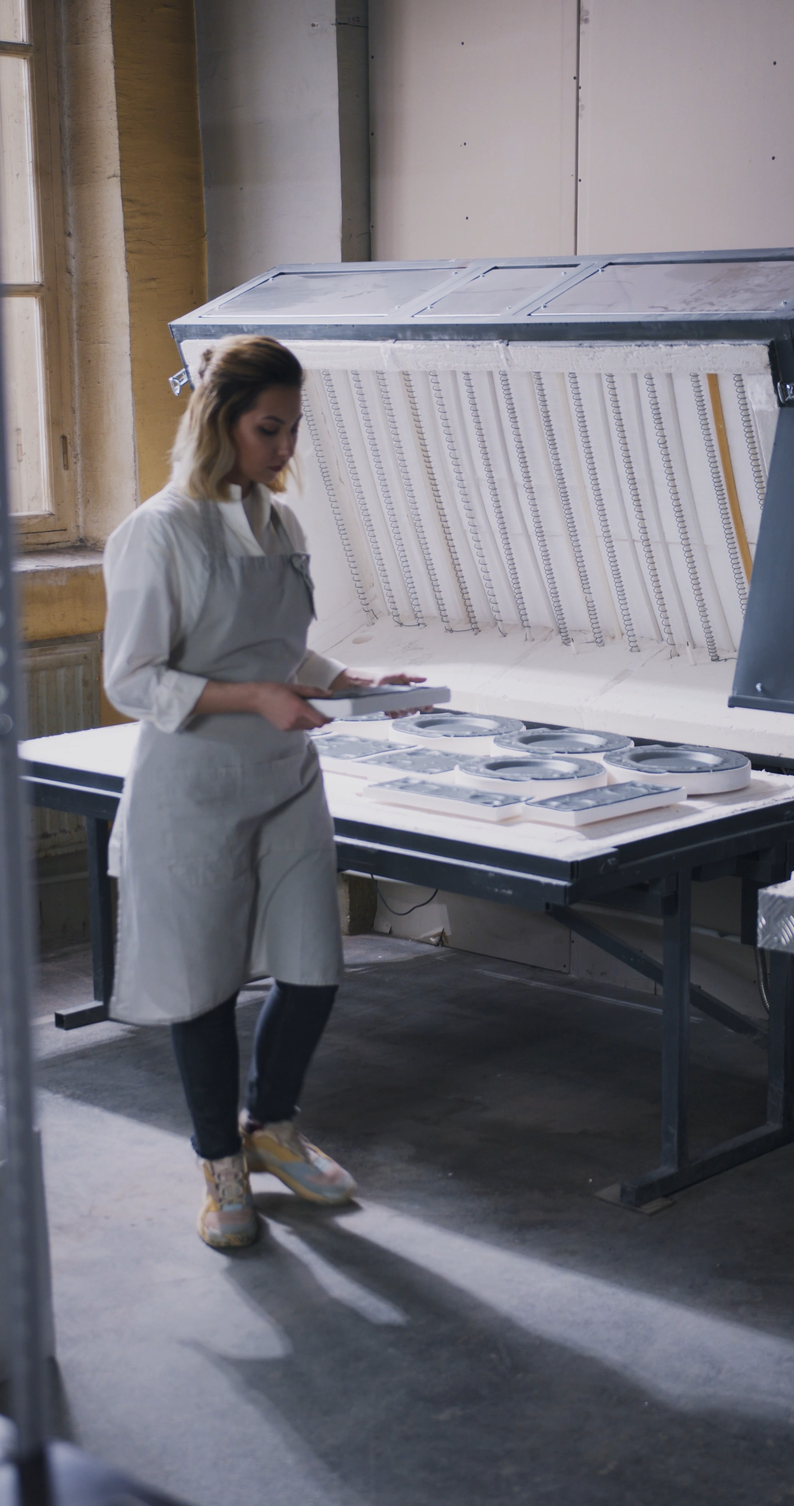No-gloves: (228, 673, 351, 767)
